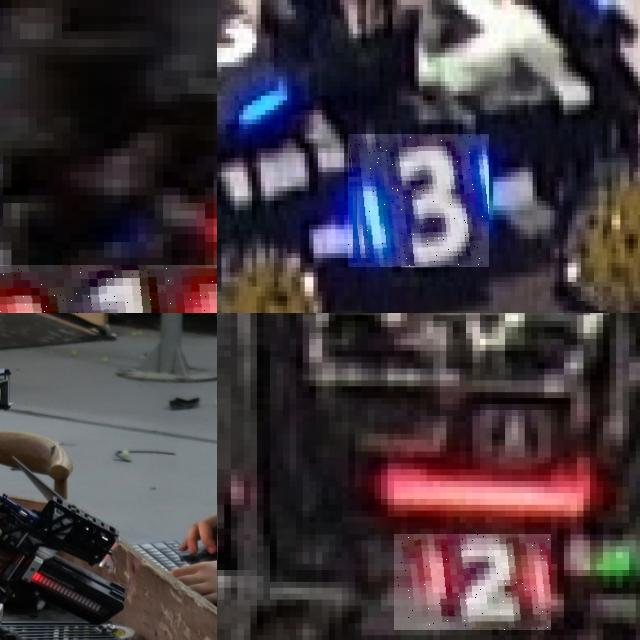B3: (348, 134, 489, 267), (217, 0, 278, 138)
R1: (0, 265, 217, 313)
R2: (394, 534, 551, 630)
